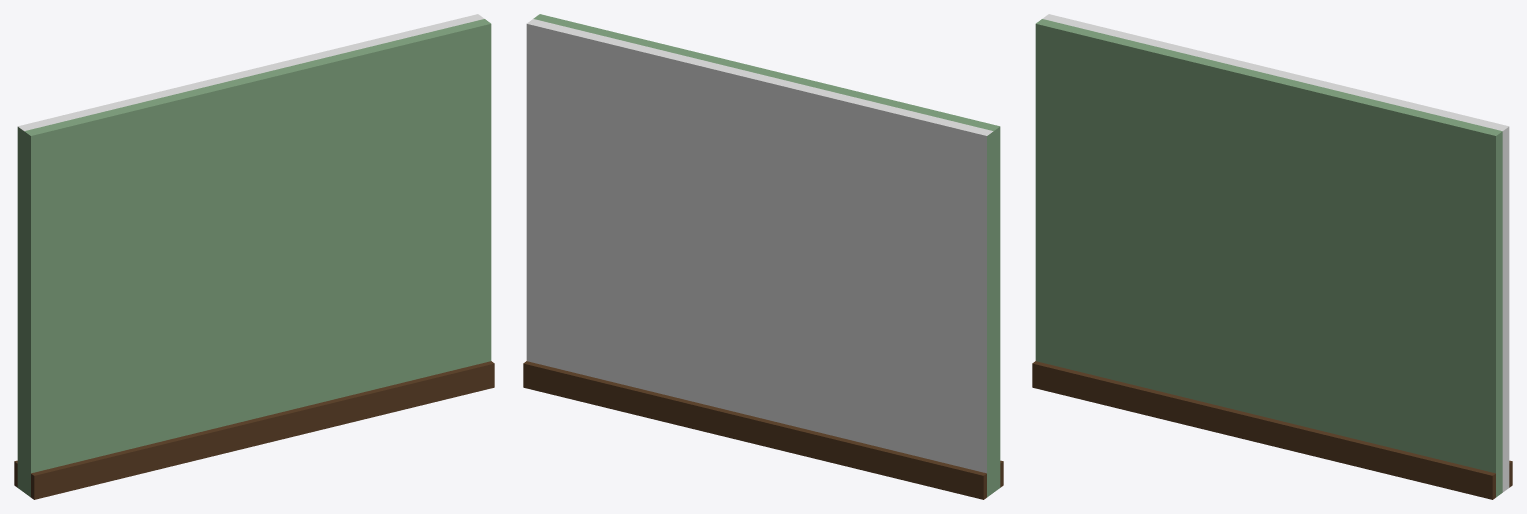
The model's file is h_wall_1_multi.fbx.
3 renders of one model, left to right at view 1: azimuth 30°, elevation 25°; view 2: azimuth 150°, elevation 25°; view 3: azimuth 330°, elevation 25°, orthographic.
Parts seen in each view (by area): view 1: Cube; view 2: Cube; view 3: Cube.
Boxes of the visible parts, x1,y1,x2,y2 form: Cube: (14,14,494,499); Cube: (523,14,1003,499); Cube: (1032,14,1512,499).
Bounding box in the file's own units: 400 × 300 × 30.
